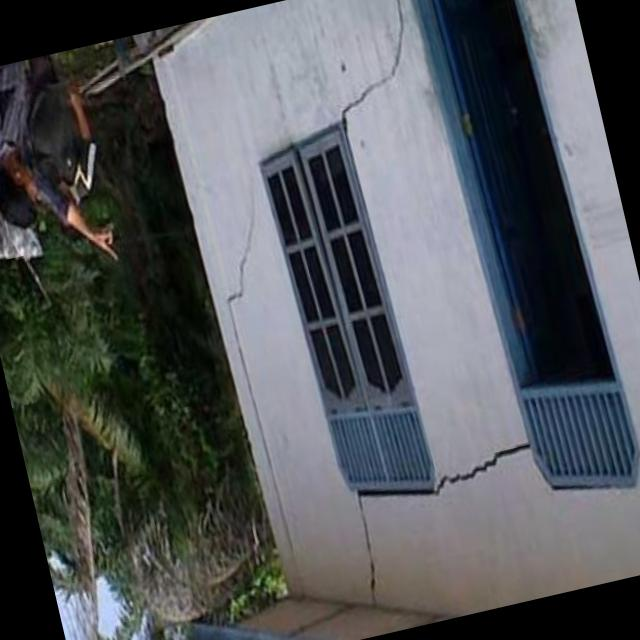crack: (354, 441, 532, 607), (225, 202, 295, 555), (342, 0, 404, 136)
